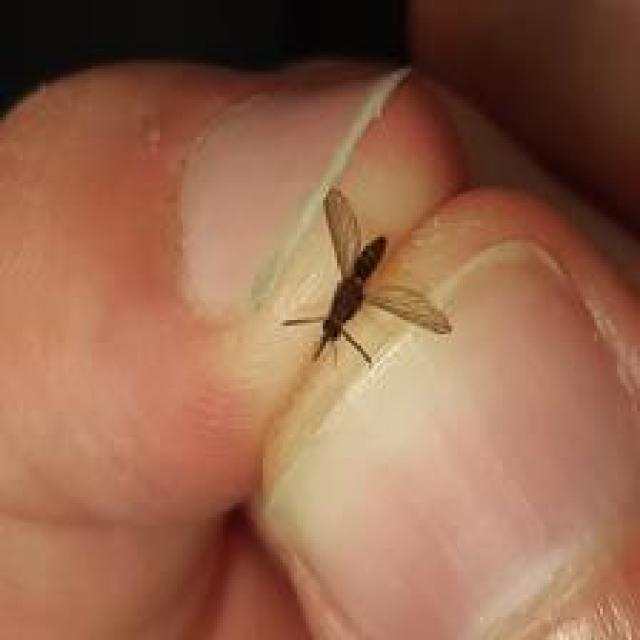Culex: (278, 184, 453, 370)
